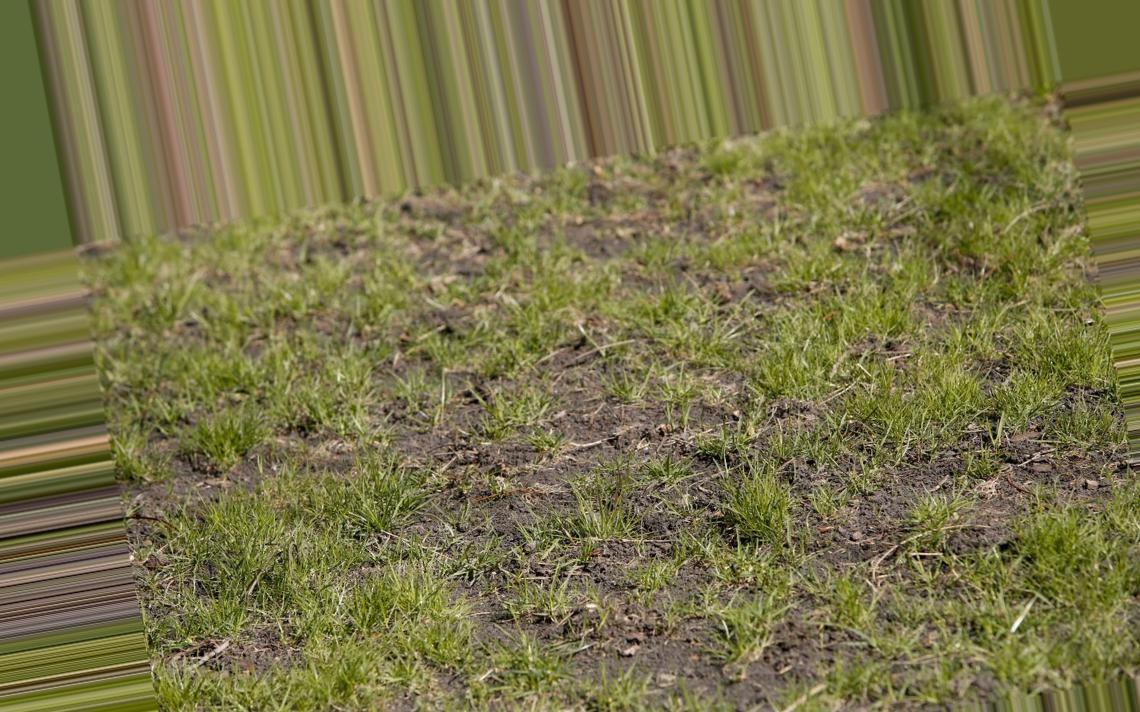patch: (852, 468, 1006, 553), (563, 373, 682, 442), (478, 440, 569, 501), (467, 518, 537, 577), (228, 442, 306, 483), (659, 627, 715, 662), (398, 416, 452, 444)
